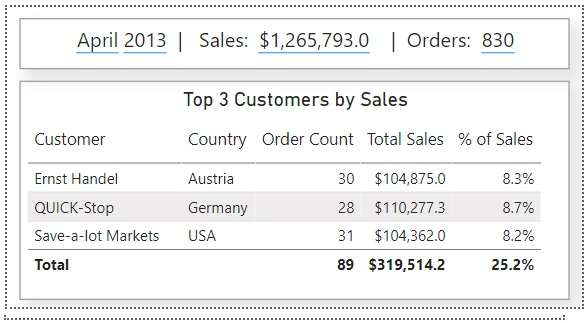

This screenshot's page, from the dashboard's own definition file:
{"tool":"powerbi","page":{"name":"Customer Tooltip","canvas":[460,240],"ordinal":2},"visuals":[{"type":"tableEx","title":"Top 3 Customers by Sales","fields":{"Values":["DimCustomers.Customer","DimCustomers.Country","MeasuresTable.Order Count","MeasuresTable.Total Sales","MeasuresTable.% of Sales"]},"box":[10,58.8,440,175.2],"z":0,"group":"g1"},{"type":"textbox","box":[10,9,440,41.1],"z":1000,"group":"g1"},{"type":"group","id":"g1","title":"Group 1","box":[10,9,440,225],"z":1001}]}

Visuals, with their boxes on the page's 460x240 design canvas (x1, y1, x2, y2). These are canvas units, not pixel positions in the 588x323 screenshot, which may show the page scaled, cropped or inside an application window:
"Top 3 Customers by Sales" tableEx: <bbox>10, 59, 450, 234</bbox>
textbox: <bbox>10, 9, 450, 50</bbox>
"Group 1" group: <bbox>10, 9, 450, 234</bbox>
